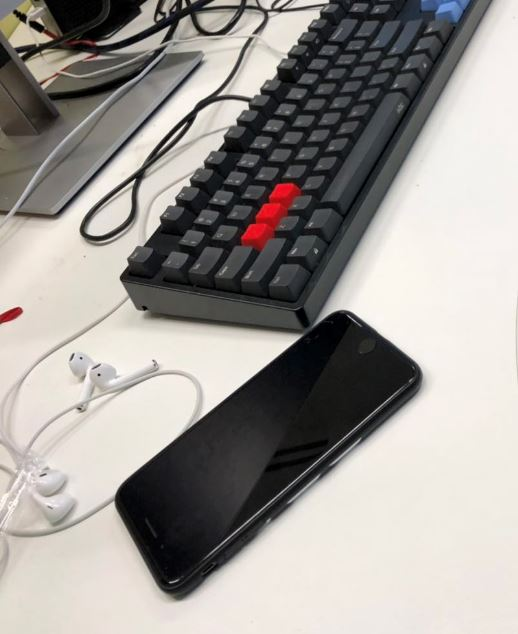mobil: (108, 303, 425, 601)
